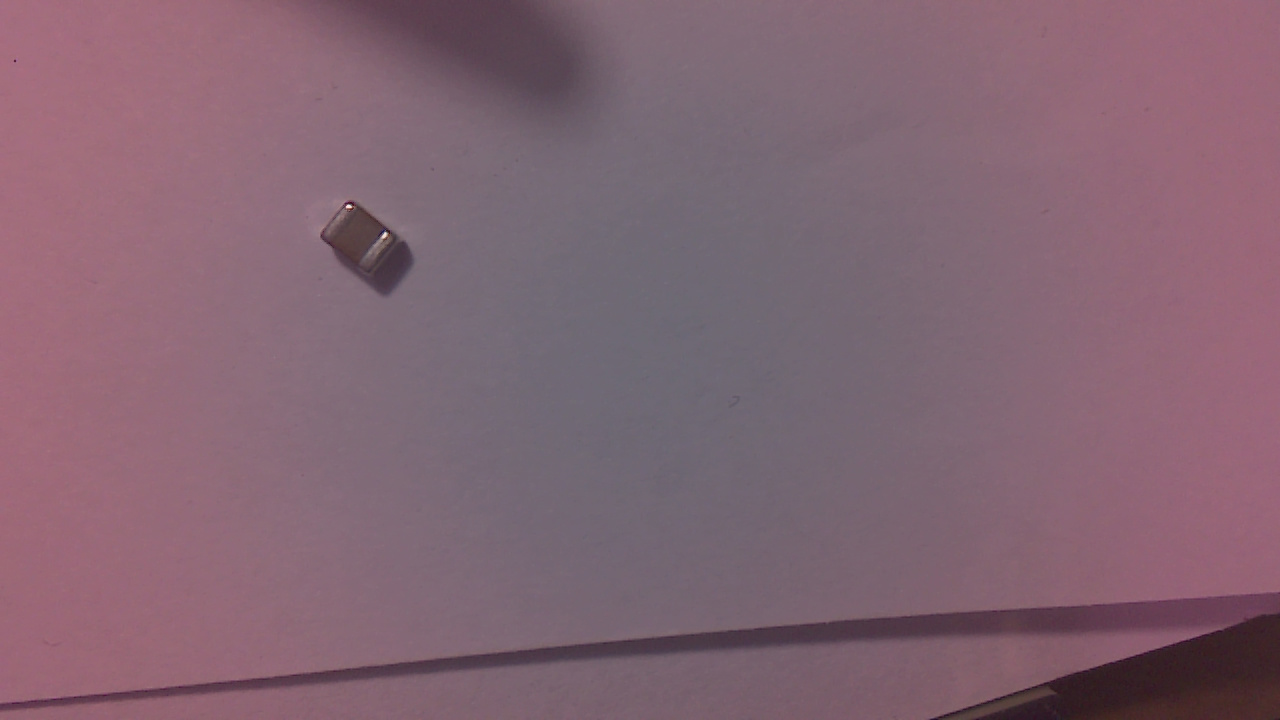Condensator: (327, 205, 410, 288)
